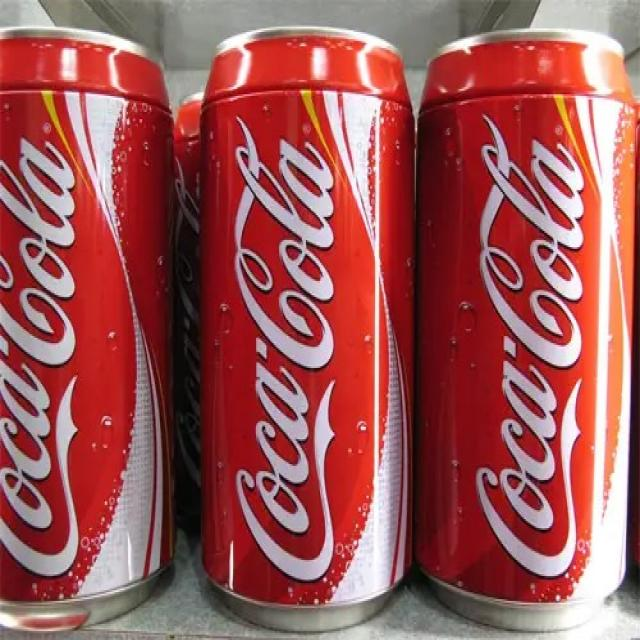coca cola: (227, 108, 354, 593), (474, 104, 594, 588), (0, 117, 83, 583)
